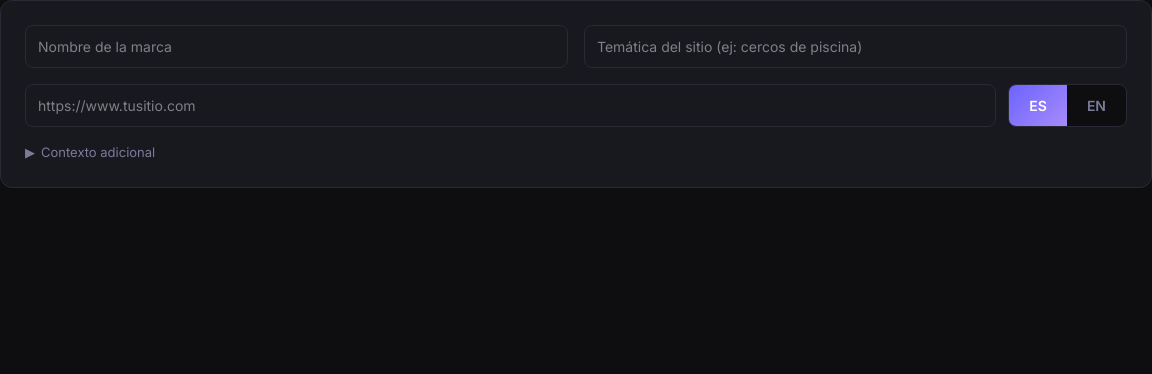
Test case: ContextPanel › expande sección colapsable al hacer click
Expected: the field with placeholder "ciudad" is not shown
Step 1. Click the button "▶ Contexto adicional" → (90, 153), box x1=25 y1=143 x2=155 y2=162
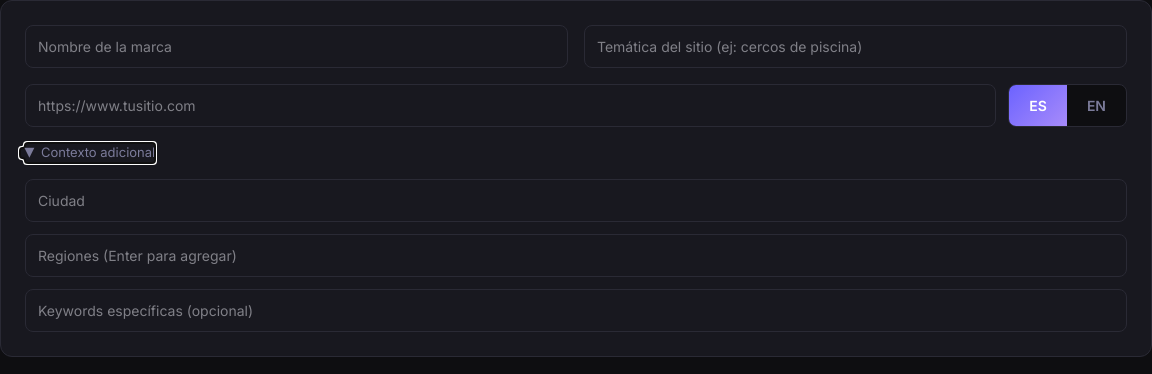
Result: the field with placeholder "Ciudad" is shown at x1=25 y1=178 x2=1127 y2=222
